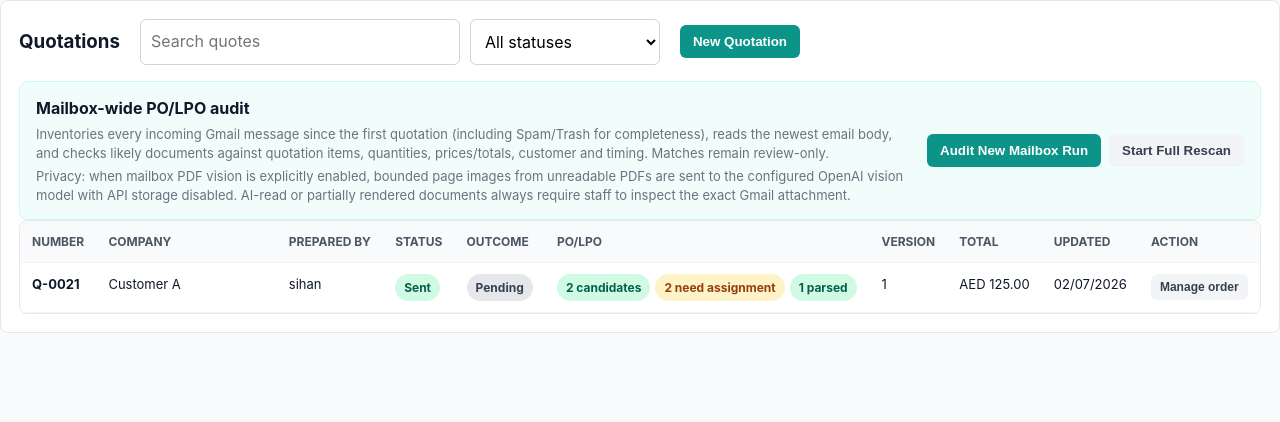
QuotationList PO/LPO evidence summaries › reports an exhausted inventory as incomplete when messages were tombstoned
The image size is (1280, 422).
Expected: the text "Q-0021" is shown, [32,276,80,292]
Click the button "Audit New Mailbox Run" at {"x": 1014, "y": 150}, box [927,134,1101,167]
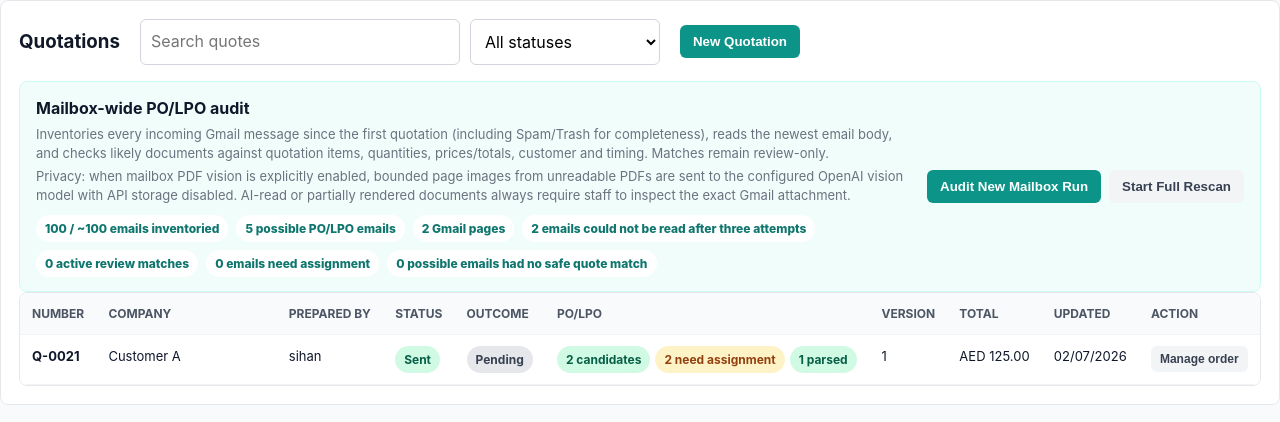
Expected: the text "2 emails could not be read after three attempts" is shown, [522,215,815,242]
